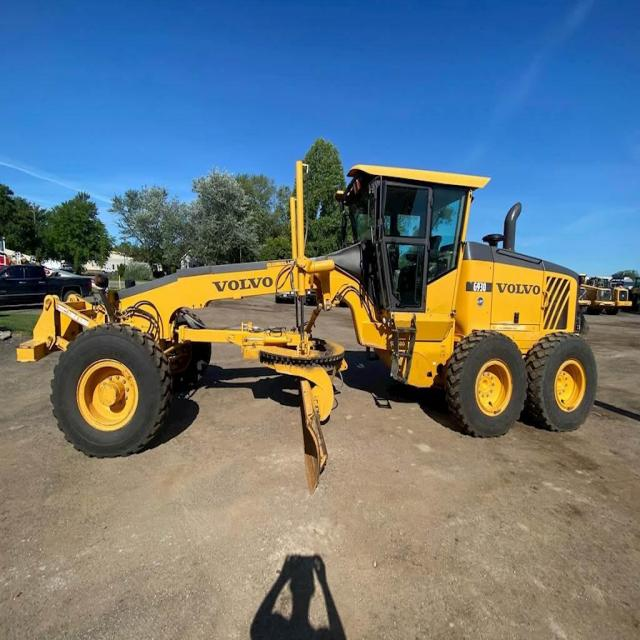Grader: (22, 141, 602, 457)
